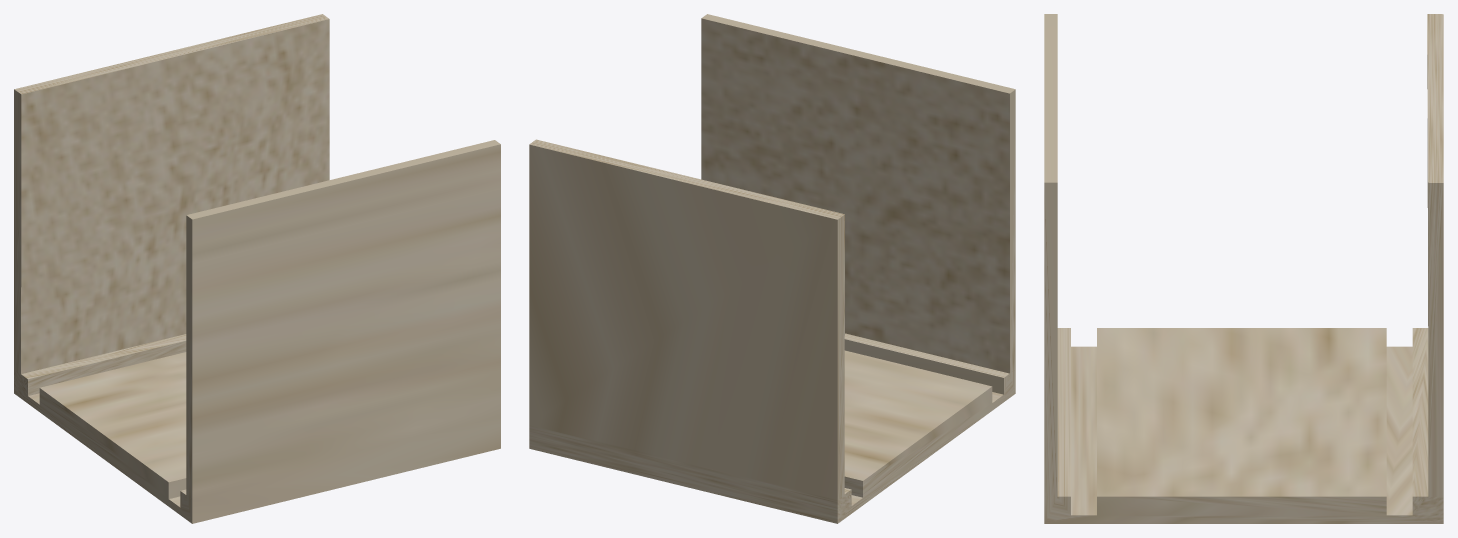
Rendered from UpperBox.gltf.
The picture shows the model from 3 angles, left to right: view 1: azimuth 30°, elevation 25°; view 2: azimuth 150°, elevation 25°; view 3: azimuth 270°, elevation 25°; orthographic projection. The views are drawn at different scales.
Visible parts, largest first — view 1: Cube.001; view 2: Cube.001; view 3: Cube.001.
Part boxes in pixels (bbox=[...]): Cube.001: bbox=[14, 14, 500, 523]; Cube.001: bbox=[529, 14, 1015, 523]; Cube.001: bbox=[1044, 14, 1443, 523].
Bounding box in the file's own units: 8 × 7.55 × 8.
1 material, 1 textured.
